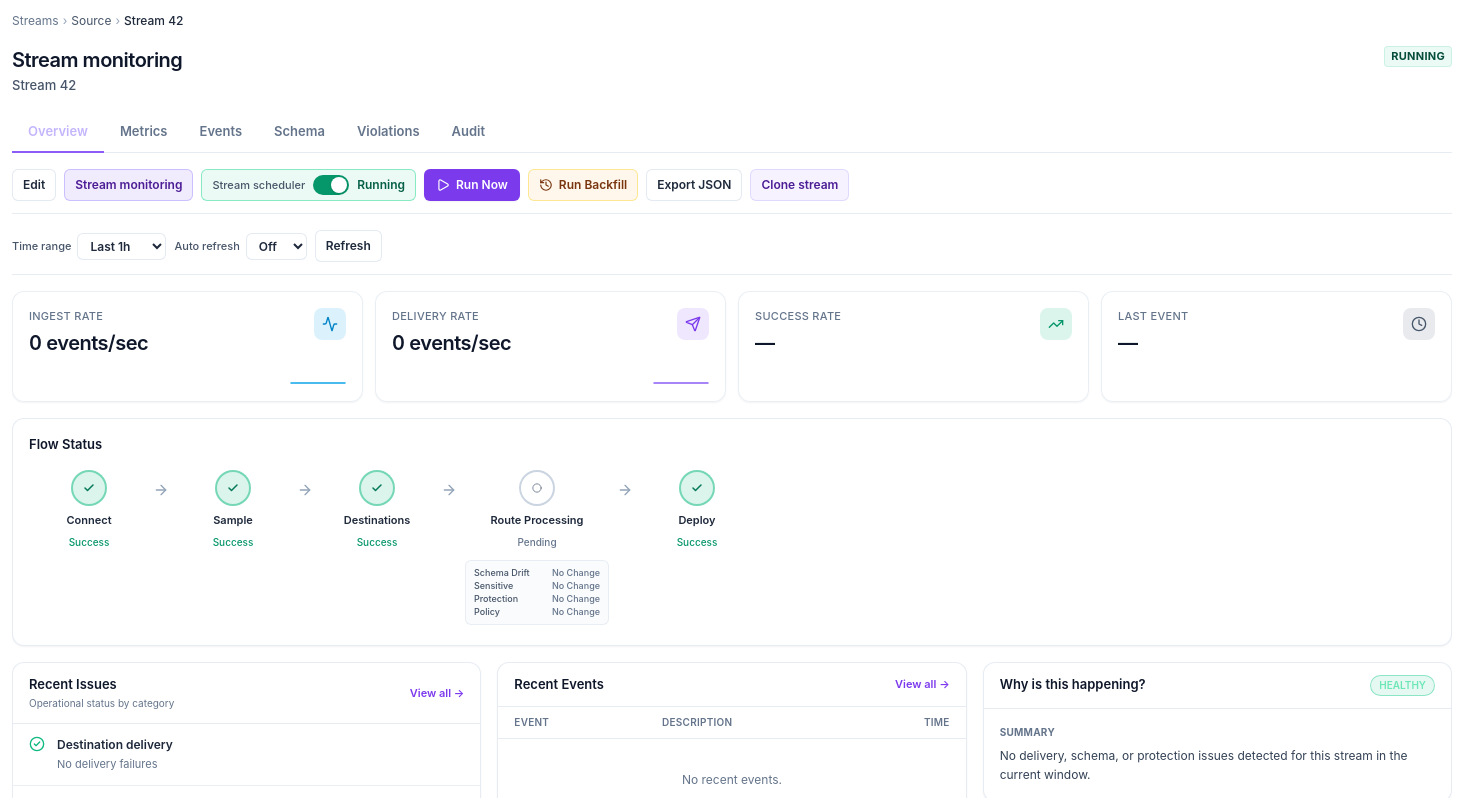
Test: StreamRuntimeDetailPage M17.2 layout › shows status-first layout with governance drawer for Governance Operator
Expected: the element with test id "stream-monitoring-status-strip" is shown, x1=12 y1=291 x2=1452 y2=402
Expected: the element with test id "stream-monitoring-status-strip" shows "Ingest Rate", x1=29 y1=309 x2=103 y2=323
Click the tab with test id "stream-detail-tab-audit".
click(468, 132)  # box x1=436 y1=112 x2=501 y2=153
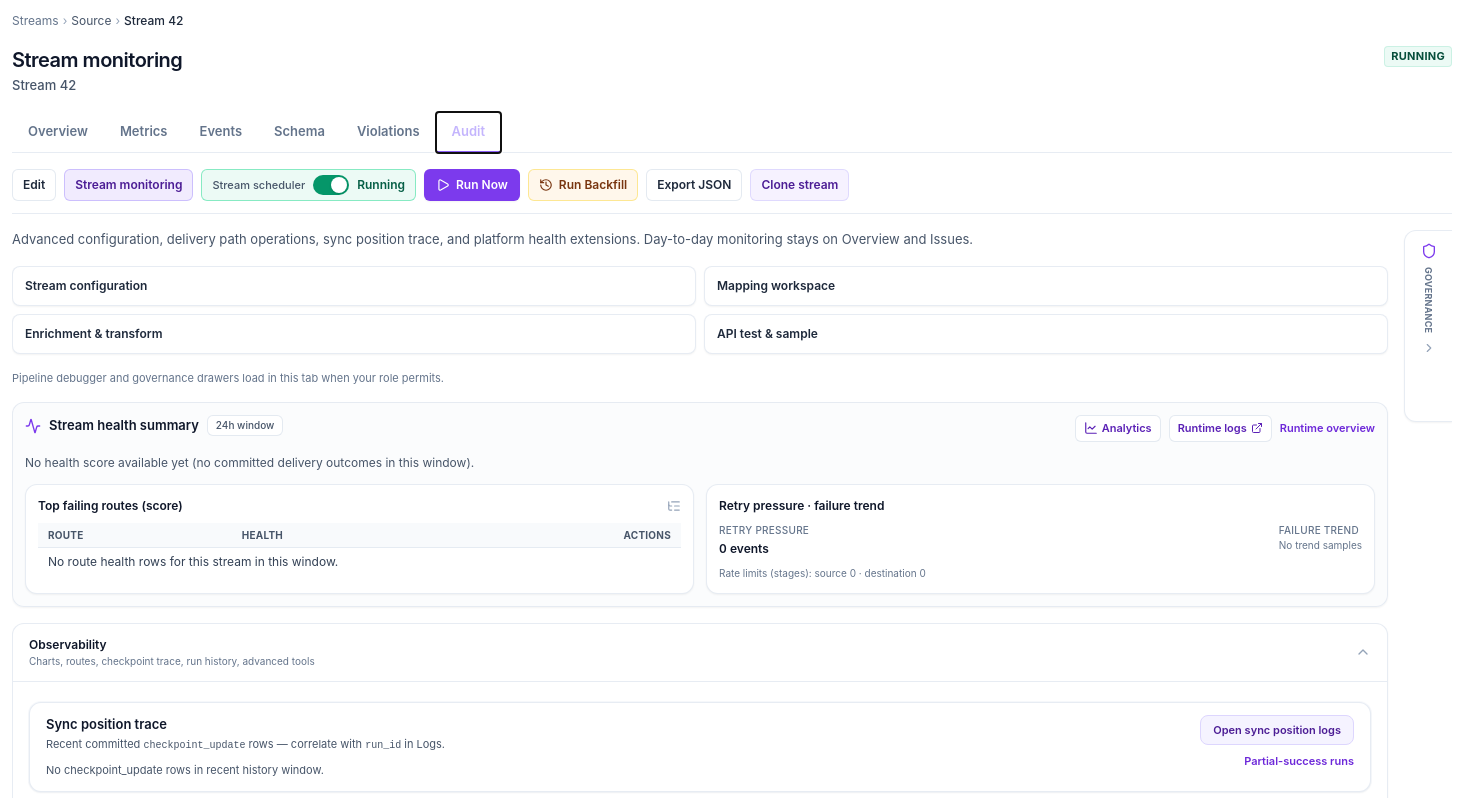
Expected: the element with test id "stream-governance-drawer" is shown, x1=1404 y1=230 x2=1452 y2=422
